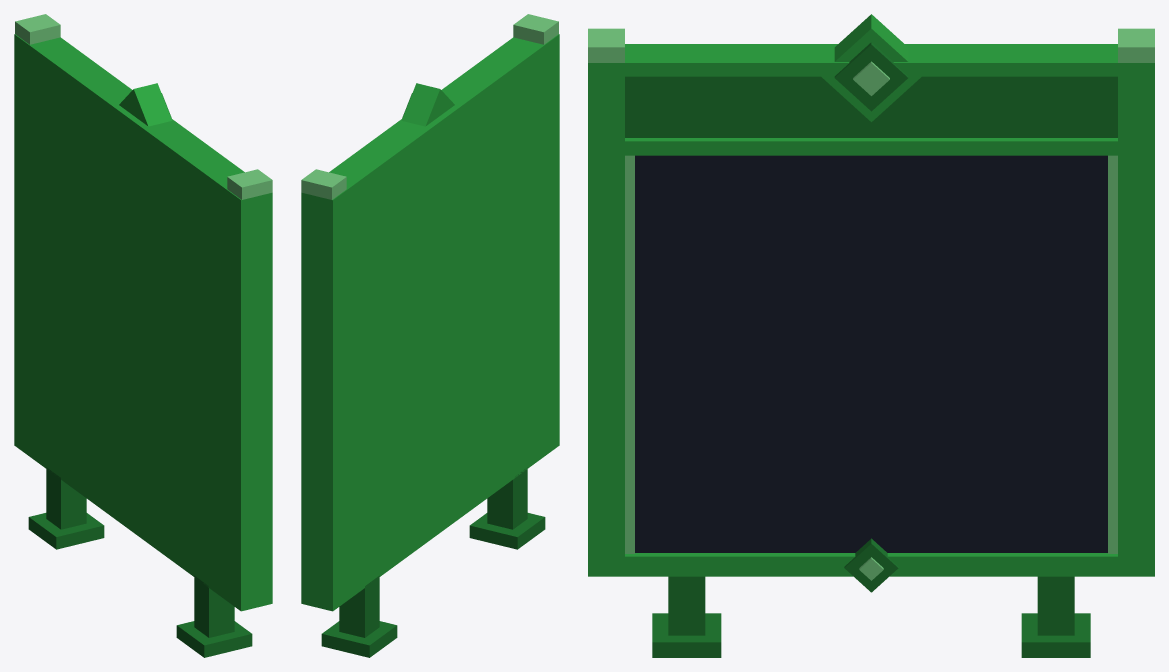
The model's file is leaderboard_green.glb.
3 renders of one model, left to right at view 1: azimuth 30°, elevation 25°; view 2: azimuth 150°, elevation 25°; view 3: azimuth 270°, elevation 25°, orthographic. The views are drawn at different scales.
Parts seen in each view (by area): view 1: leaderboard_green; view 2: leaderboard_green; view 3: leaderboard_green.
Part boxes in pixels (box(x1,y1,x2,y2)): leaderboard_green: box(14, 14, 272, 657); leaderboard_green: box(301, 14, 559, 657); leaderboard_green: box(588, 14, 1154, 657).
Size of the model in its own units: 0.56 by 5.6 by 4.6.
